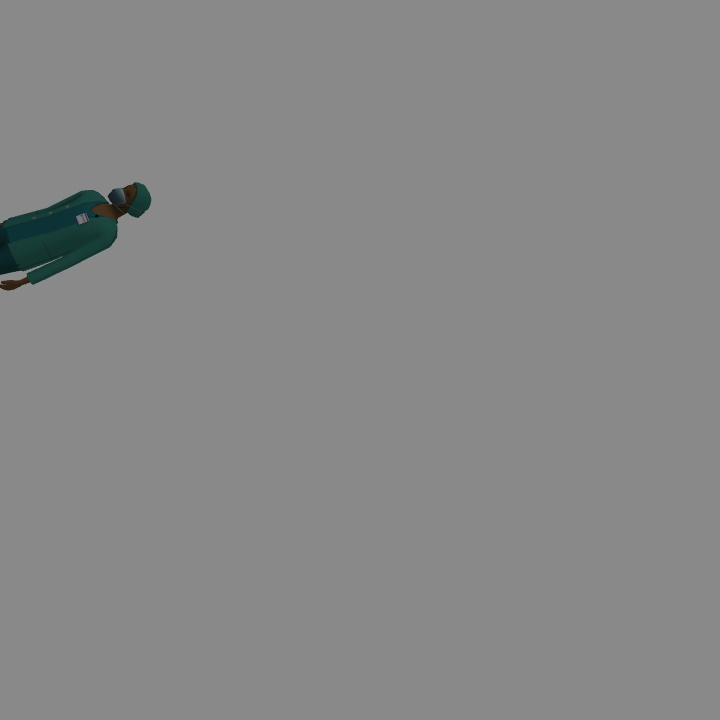victim: (3, 181, 150, 290)
